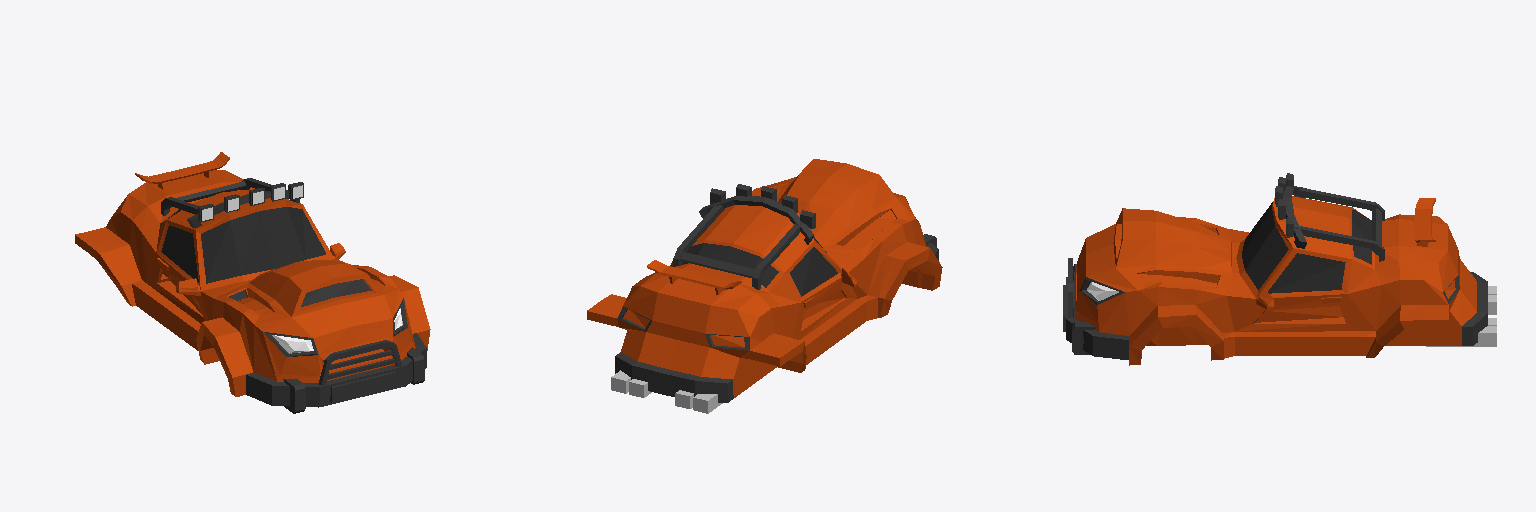
File: CarBody.obj
3 renders of one model, left to right at view 1: azimuth 30°, elevation 25°; view 2: azimuth 150°, elevation 25°; view 3: azimuth 270°, elevation 25°, orthographic.
Parts seen in each view (by area): view 1: CarBody.obj; view 2: CarBody.obj; view 3: CarBody.obj.
Boxes of the visible parts, <box> form: CarBody.obj: <box>75,152,430,413</box>; CarBody.obj: <box>587,159,942,413</box>; CarBody.obj: <box>1063,173,1496,365</box>.
Size of the model in its own units: 3.96 by 2.49 by 7.31.